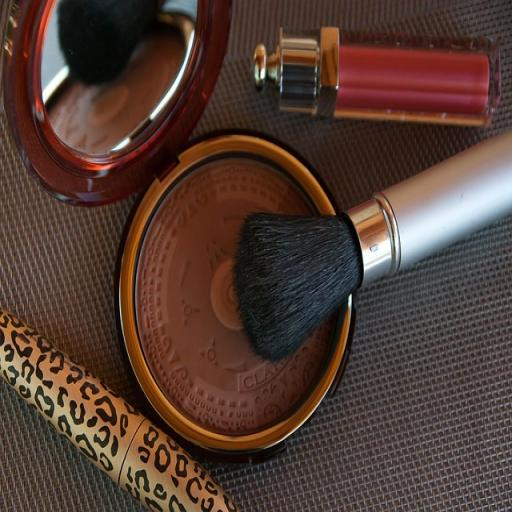lipstick: (255, 27, 500, 125)
